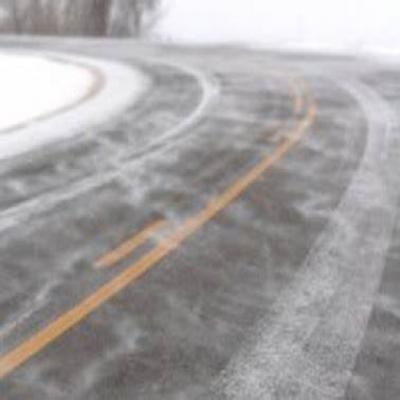iced-road: (0, 42, 400, 399)
